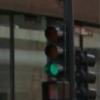cars: (43, 22, 68, 79), (76, 48, 98, 100), (42, 80, 70, 100)
